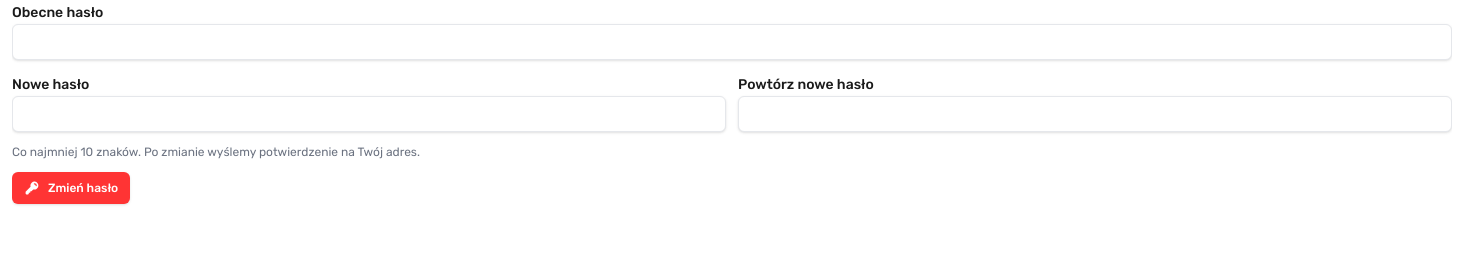
PasswordForm › po zmianie potwierdza i CZYSCI pola
In the password field labelled "Obecne hasło": coordinates (732, 42) [12,24,1452,60], type "stare-haslo-1"
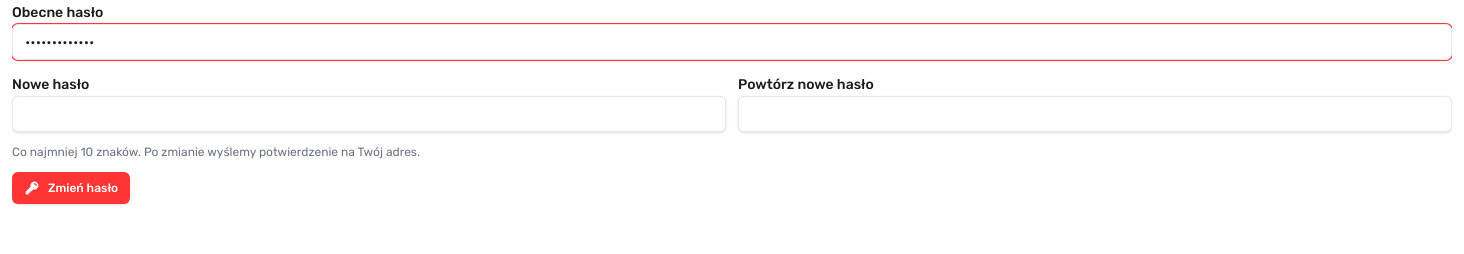
In the password field labelled "Nowe hasło": coordinates (369, 114) [12,96,726,132], type "nowe-haslo-2026"
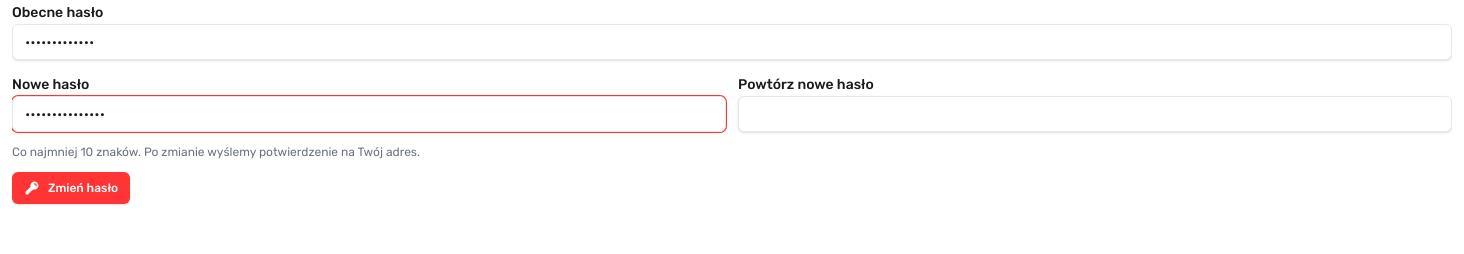
In the password field labelled "Powtórz nowe hasło": coordinates (1095, 114) [738,96,1452,132], type "nowe-haslo-2026"
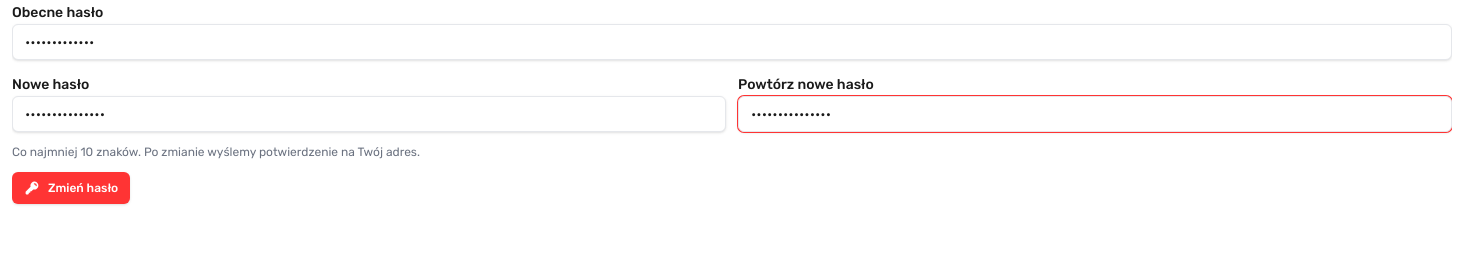
Click the button "Zmień hasło": coordinates (71, 188) [12,172,130,204]
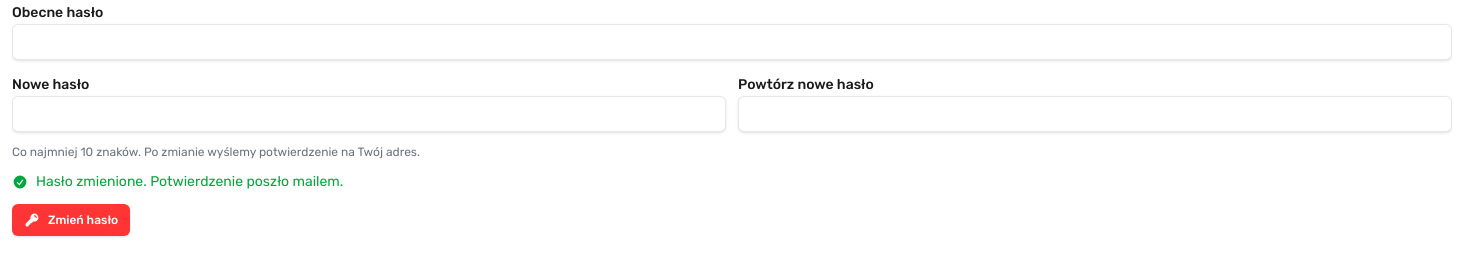
Expected: the text "Hasło zmienione. Potwierdzenie poszło mailem." is shown, [12,173,343,190]
